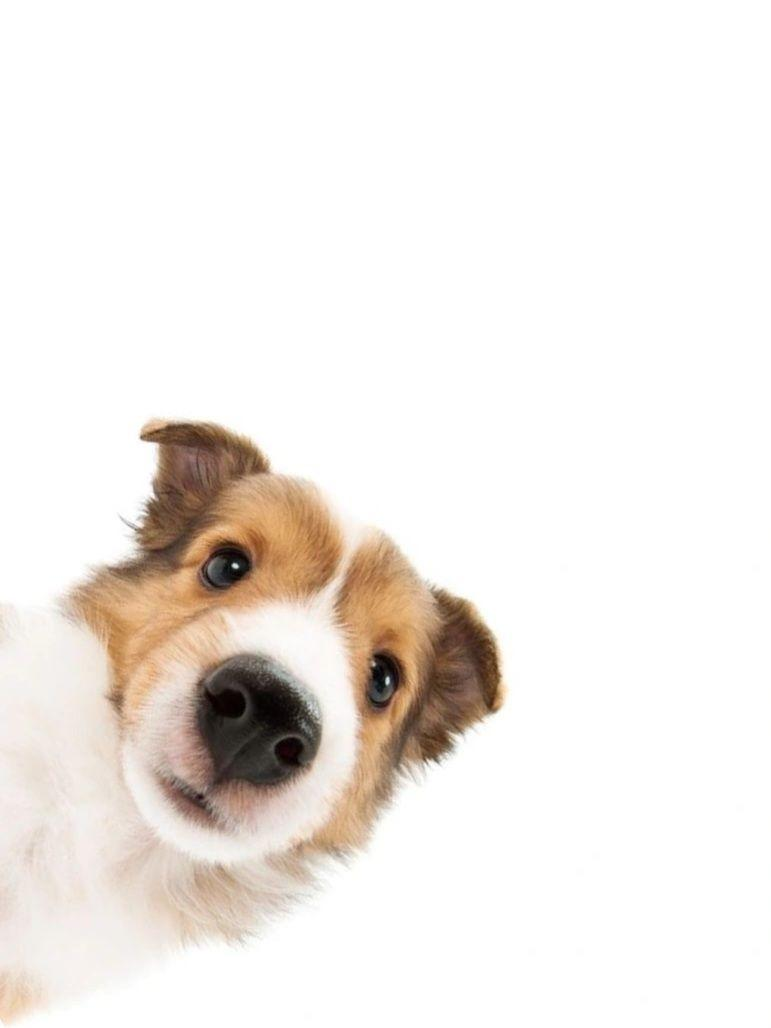puppy-dog: (0, 415, 507, 1025)
